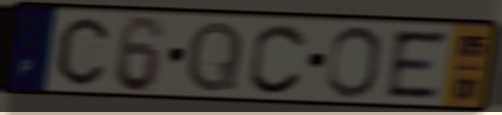6: (111, 12, 168, 95)
C: (247, 21, 310, 97), (55, 15, 111, 88)
E: (385, 29, 450, 100)
O: (323, 24, 383, 100)
Q: (183, 18, 246, 95)
